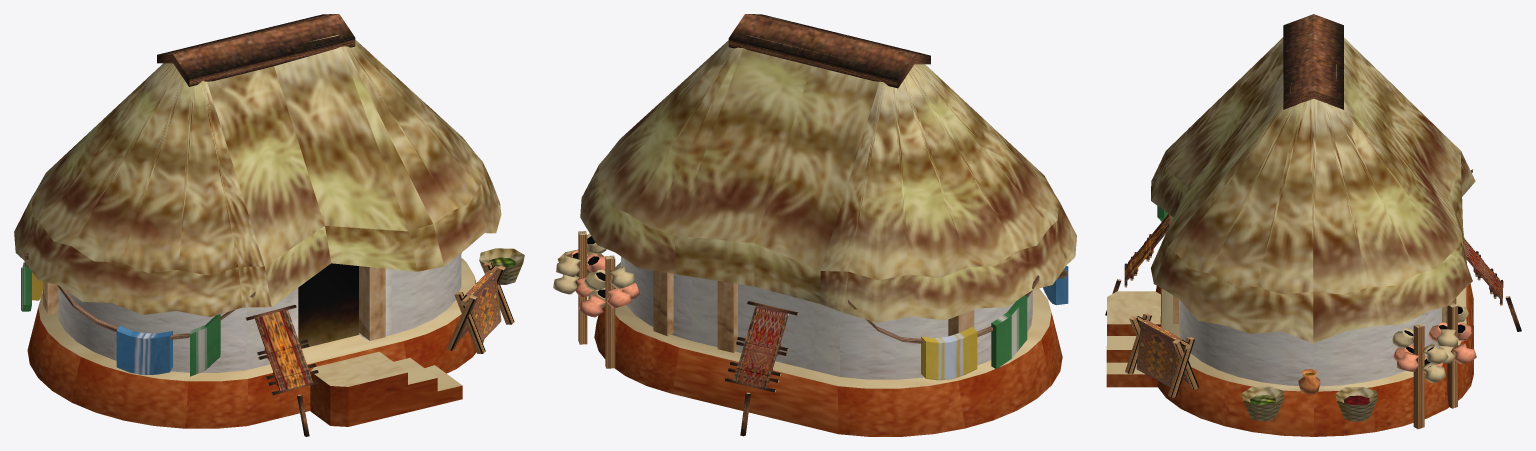
The model's file is house_3.dae.
3 views of the same model, side by side, from view 1: azimuth 30°, elevation 25°; view 2: azimuth 150°, elevation 25°; view 3: azimuth 270°, elevation 25° (orthographic). The views are drawn at different scales.
Parts seen in each view (by area): view 1: house_3; view 2: house_3; view 3: house_3.
Part boxes in pixels (box(x1,y1,x2,y2)): house_3: box(14, 14, 524, 436); house_3: box(553, 14, 1076, 436); house_3: box(1105, 14, 1521, 436).
Size of the model in its own units: 14 by 11.68 by 8.99.
